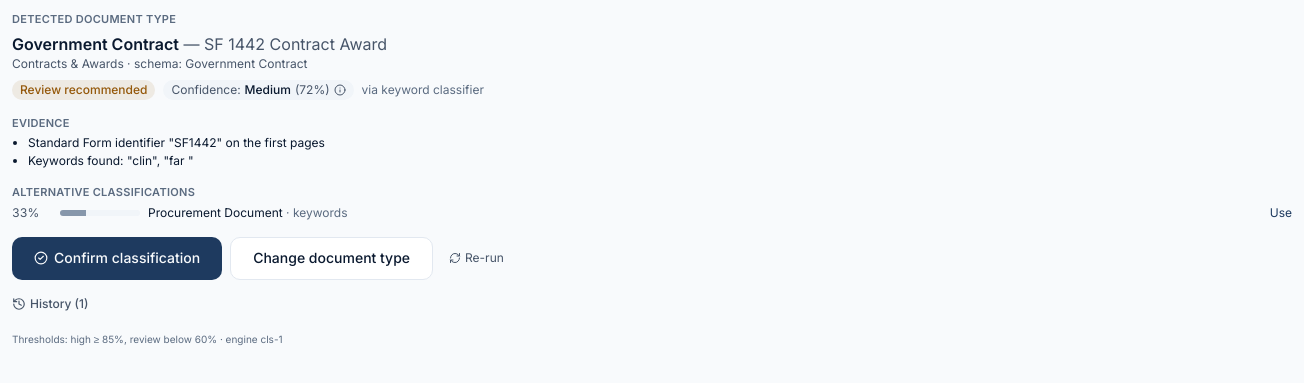
Scenario: ClassificationPanel › confirms the classification
Click the button "Confirm classification" at (117, 258), box [12,237,222,280]
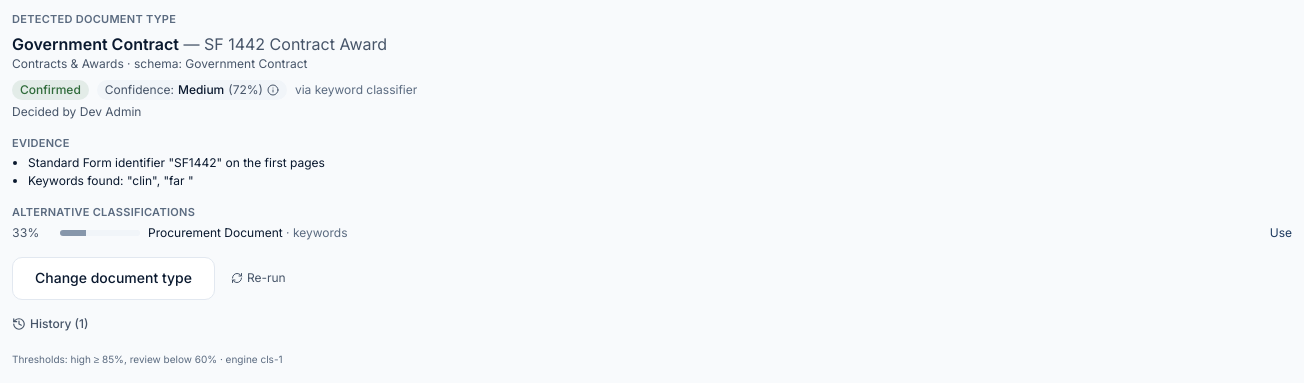
Result: the text with test id "classification-status" reads "Confirmed" at [20,82,81,97]
